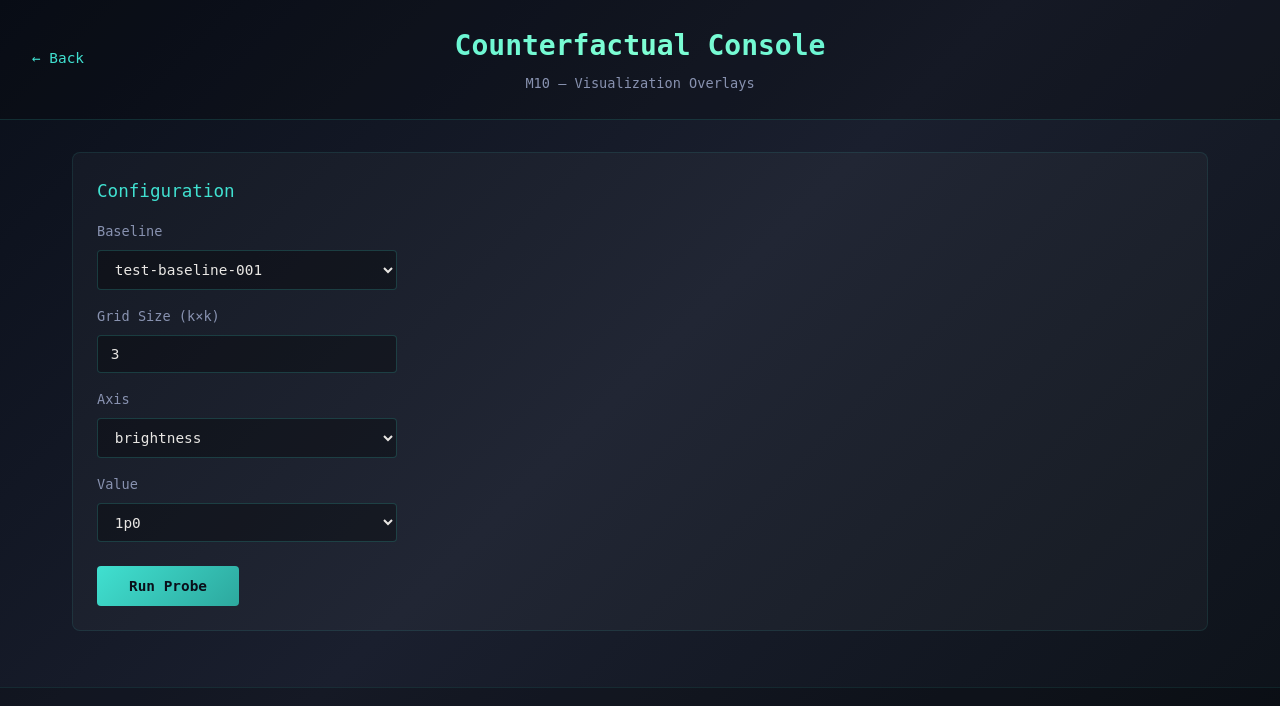
CounterfactualConsole › shows probe results with region delta values
The width and height of the screenshot is (1280, 706).
Click the button "Run Probe": (168, 586) [97, 566, 239, 606]
(page scrolled)
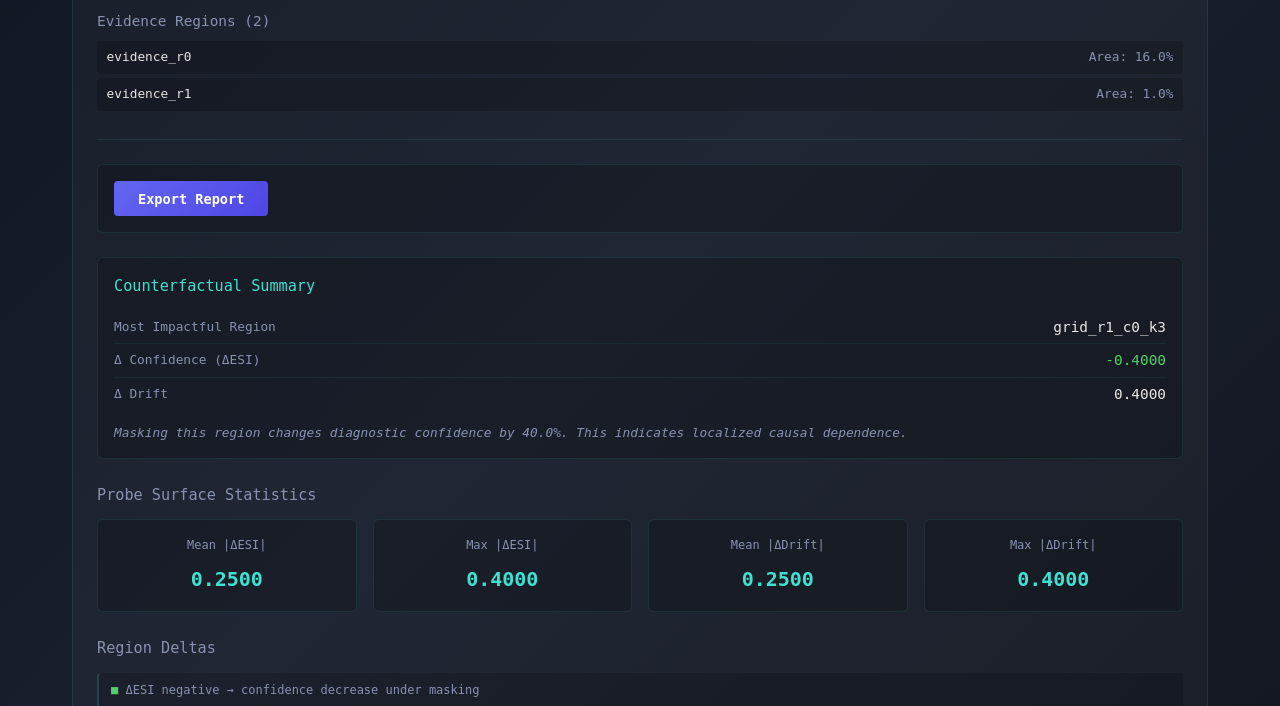
expect the text "-0.4000" is shown: met, box [1105, 349, 1166, 372]
